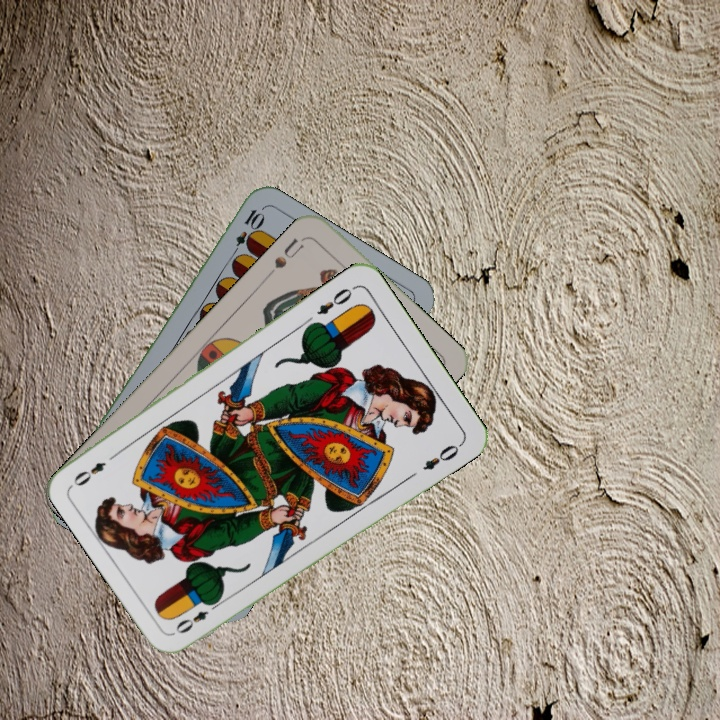E10: (227, 205, 266, 261)
EO: (171, 596, 223, 637), (313, 284, 355, 318)
SU: (263, 233, 309, 279)
